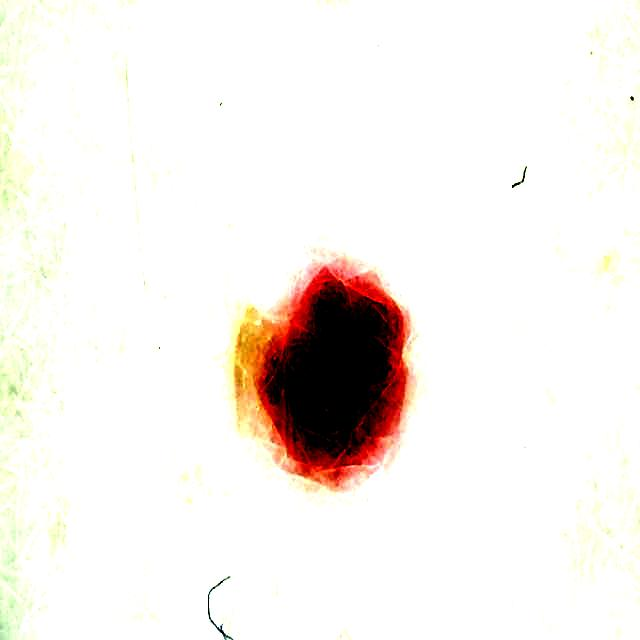VASC: (235, 267, 407, 489)
